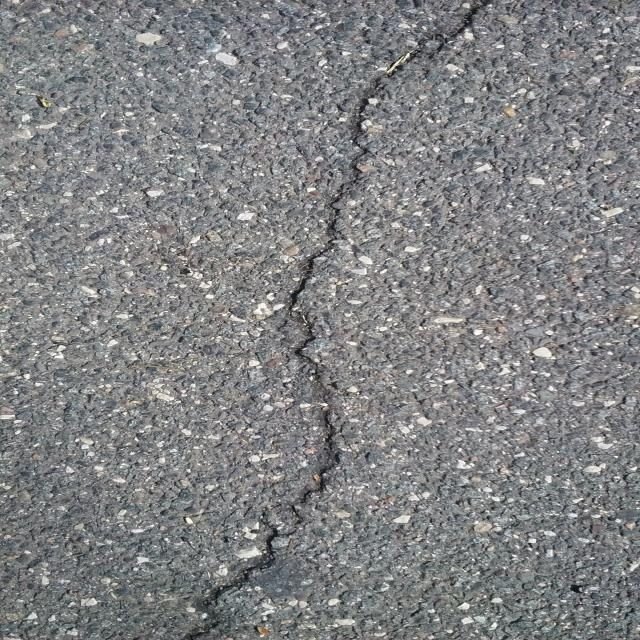Longitudial: (174, 0, 516, 640)
